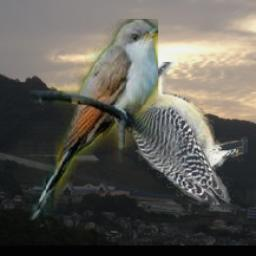Cuckoo: (31, 19, 159, 220)
Woodpecker: (123, 62, 249, 205)
